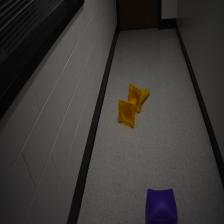cone: (118, 95, 139, 129), (128, 83, 150, 114)
cube: (145, 188, 178, 224)
